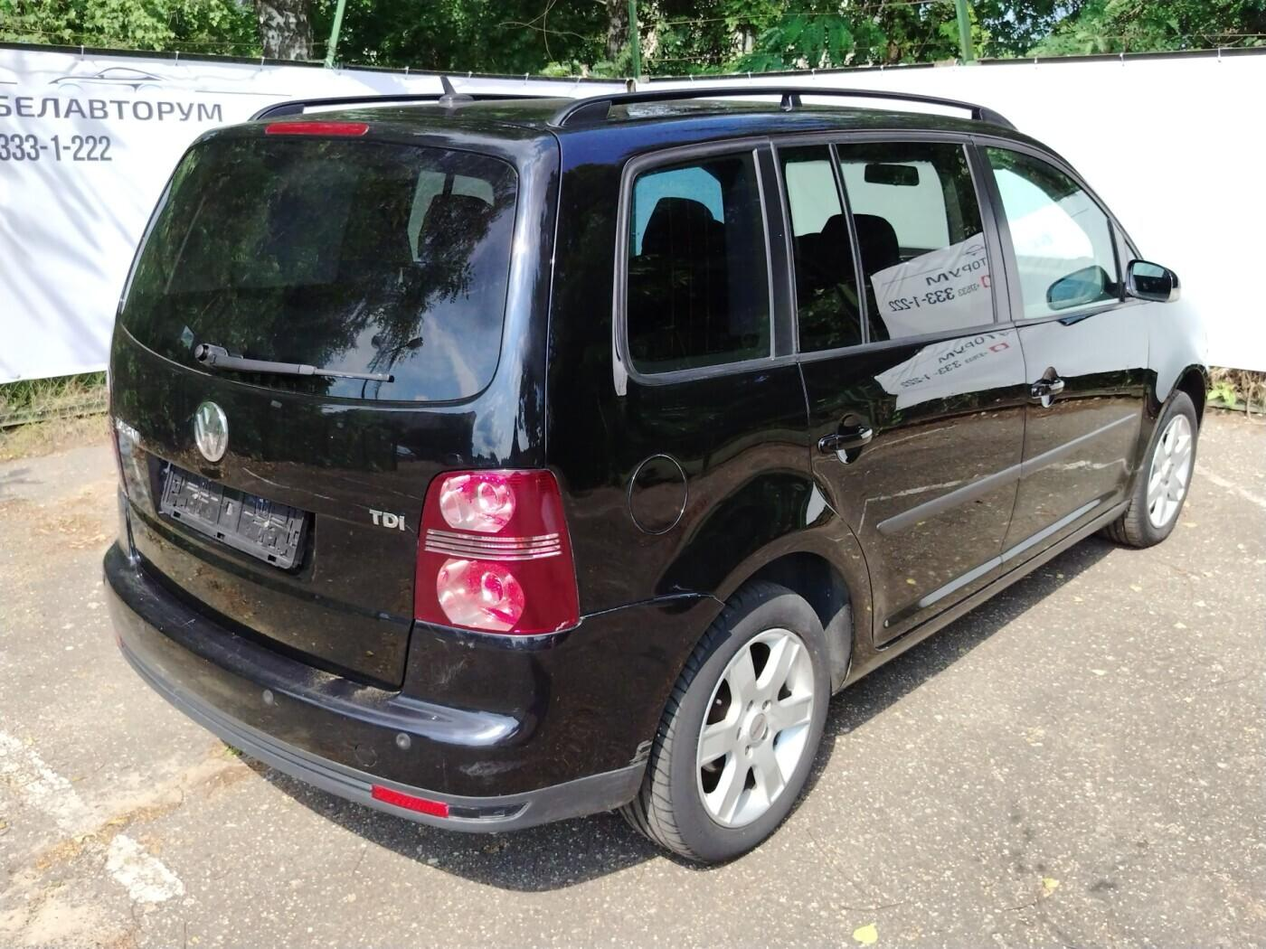Touran_2006-2010: (97, 88, 1212, 864)
